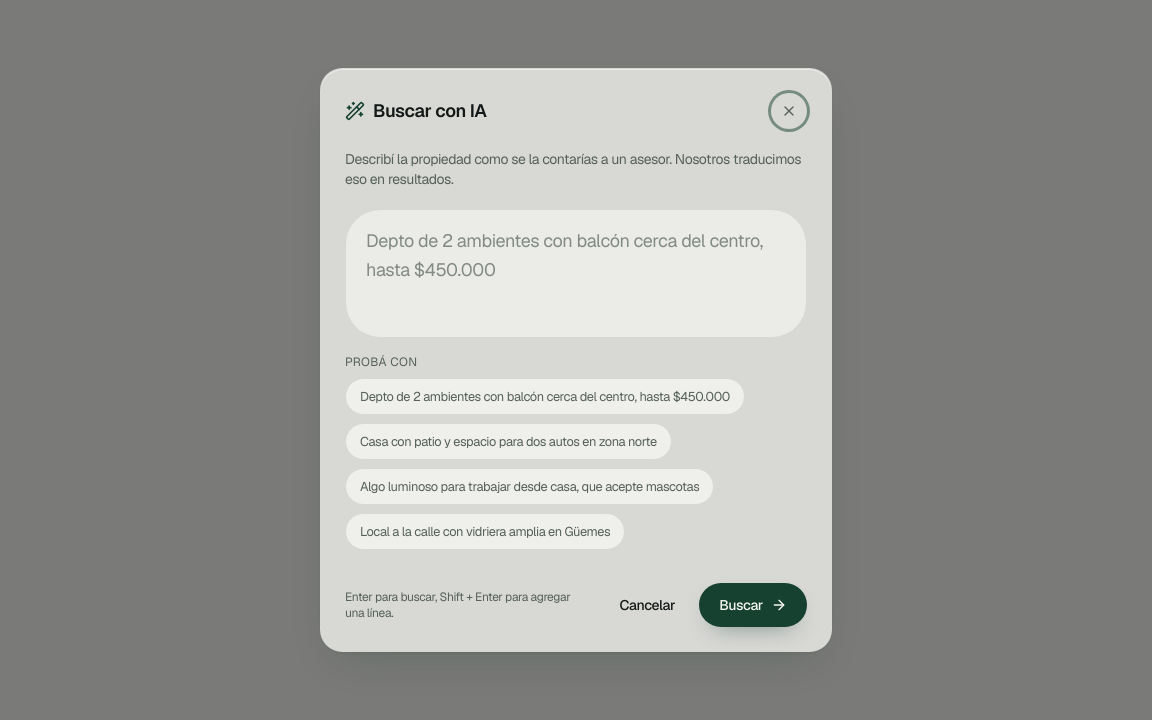
Test: AiSearchDialog › shows the validation error again after a repeated short-text submit
The image size is (1152, 720).
Replace the text in the text box with placeholder "Depto de 2 ambientes con balcón" with "Casa": (576, 270) [350,214,802,326]
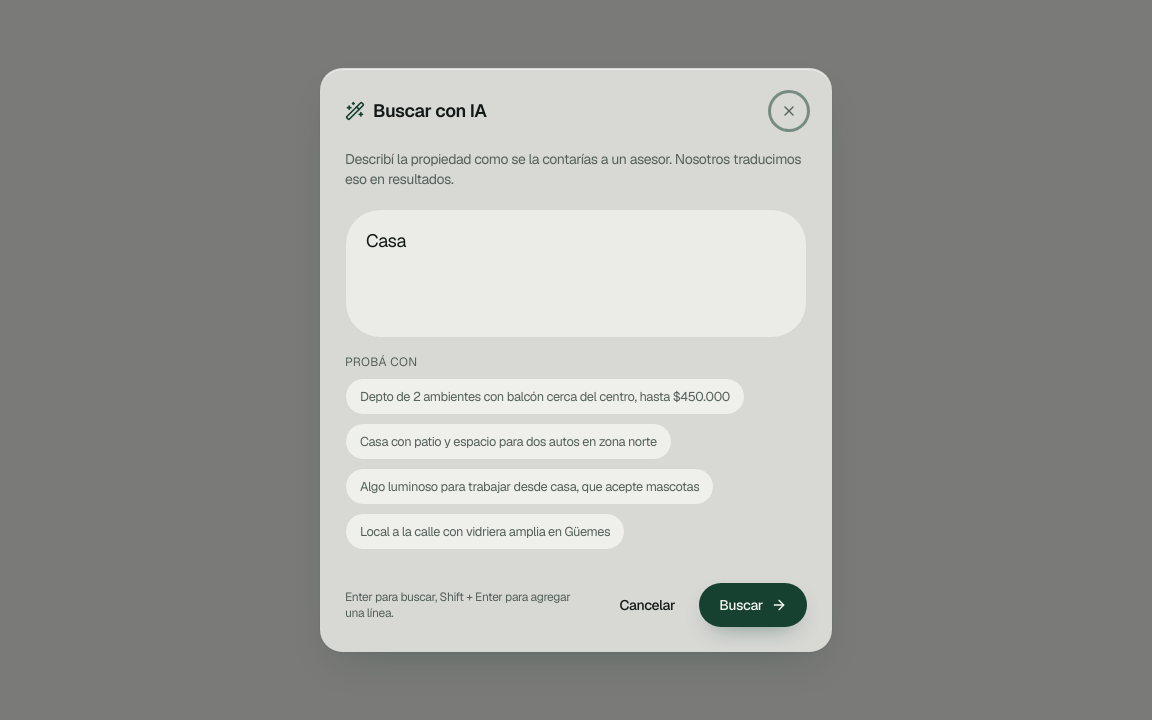
Click the button "Buscar": (753, 605) [699,583,807,627]
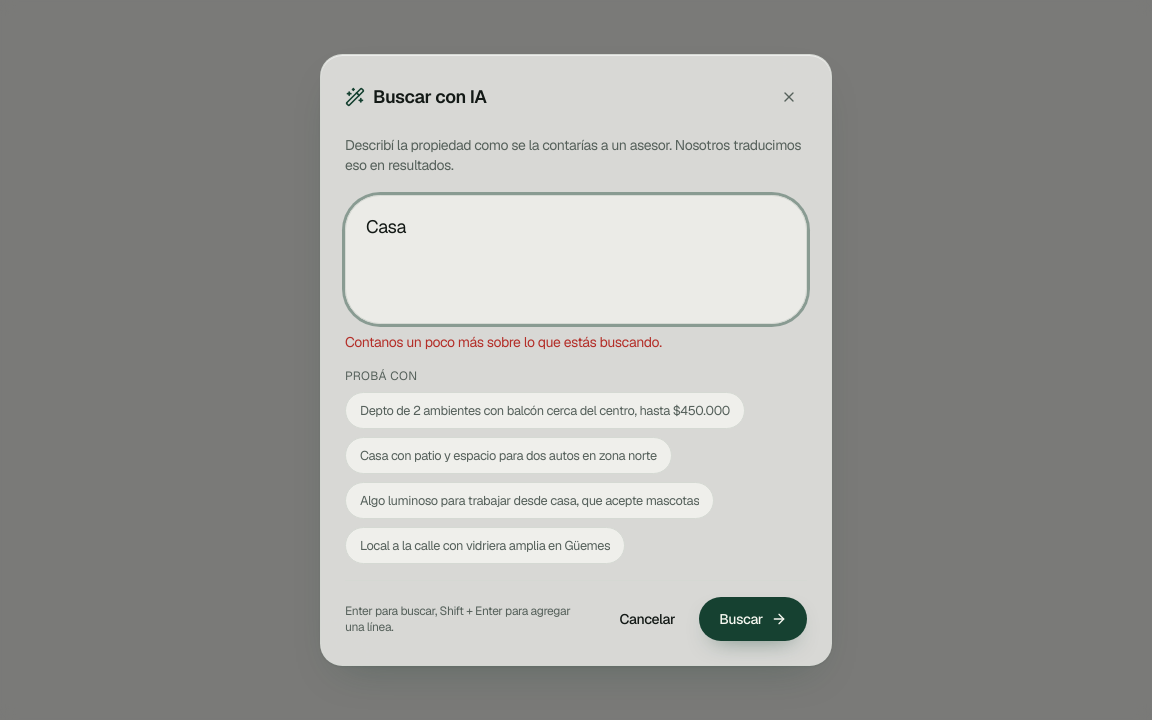
Now the text "Contanos un poco más sobre lo que estás buscando." is shown, box [345,332,662,350]
